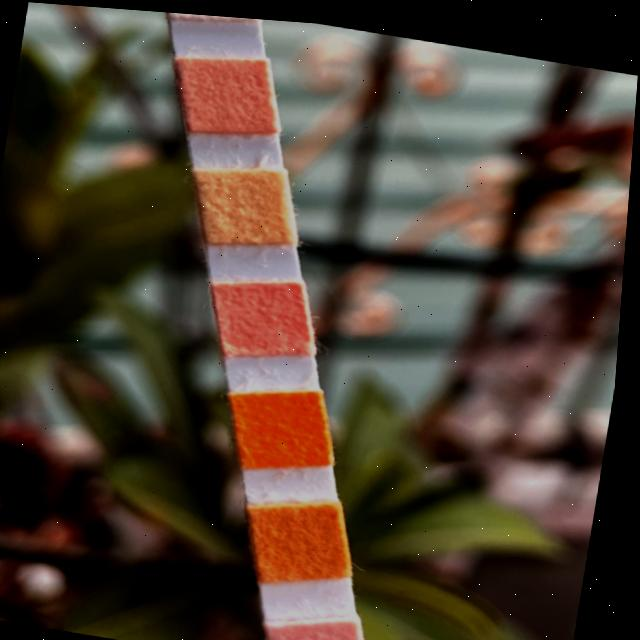Blood: (247, 393, 330, 458)
Ketone: (287, 619, 370, 640)
Protein: (206, 168, 289, 237)
SpGravity: (262, 504, 350, 571)
Urobilinogen: (187, 60, 269, 125)
pH: (224, 282, 309, 347)
